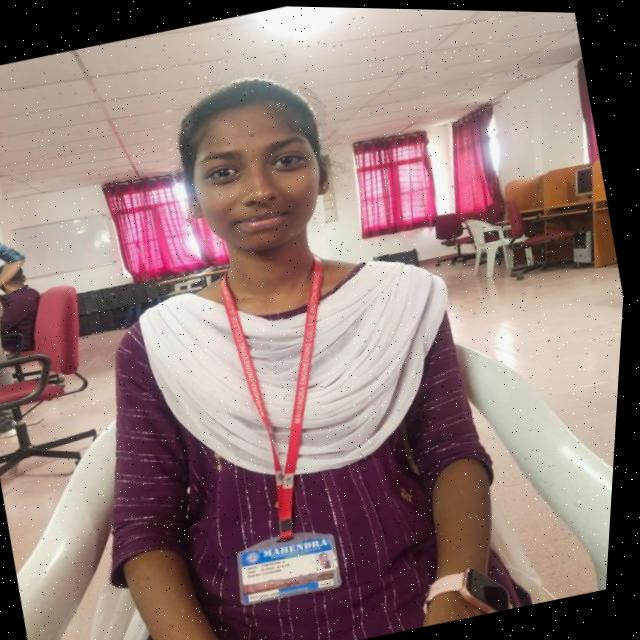id_card: (167, 242, 402, 619)
